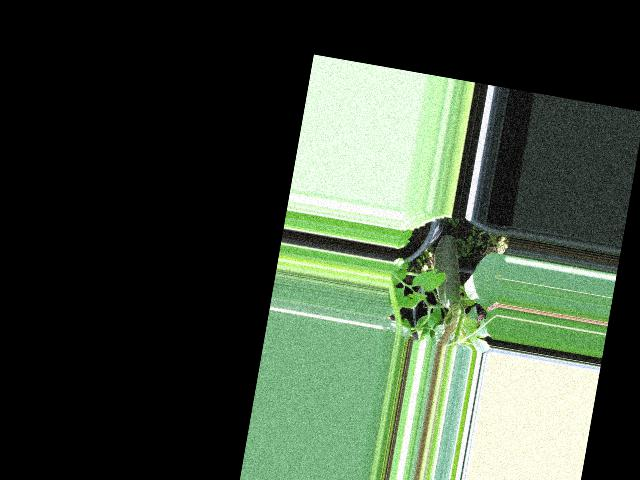cucumber: (426, 233, 470, 310)
